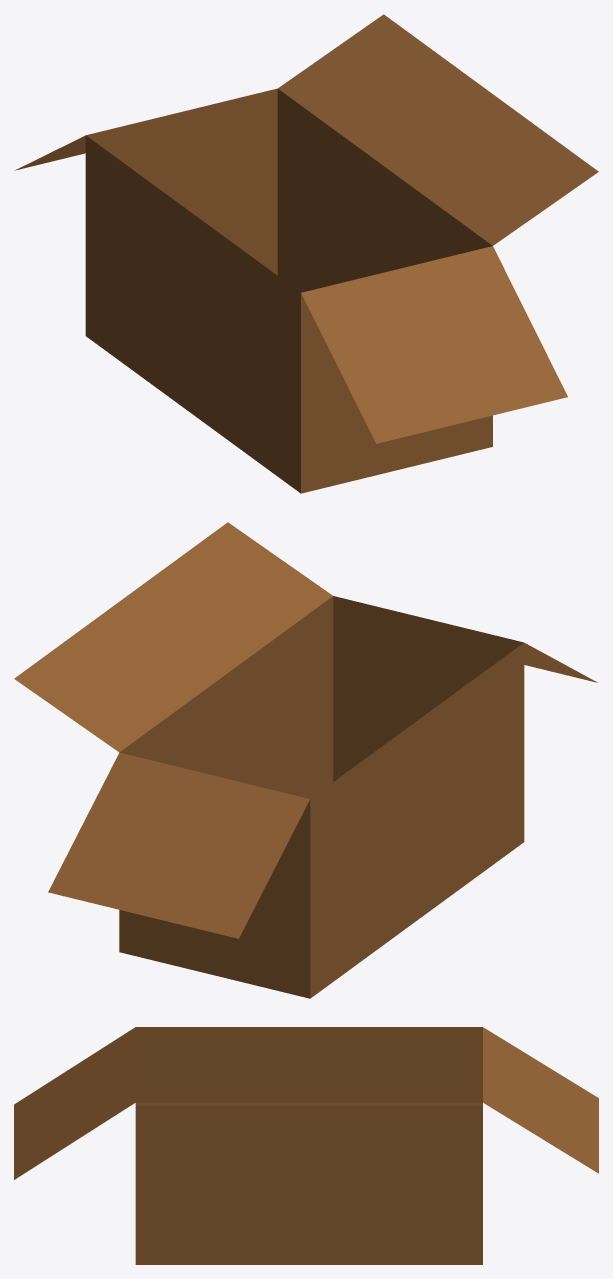
3 renders of one model, top to bottom at view 1: azimuth 30°, elevation 25°; view 2: azimuth 150°, elevation 25°; view 3: azimuth 270°, elevation 25°, orthographic. The views are drawn at different scales.
Visible parts, largest first — view 1: Cube; view 2: Cube; view 3: Cube.
Boxes of the visible parts, x1,y1,x2,y2 form: Cube: (15, 14, 598, 493); Cube: (14, 522, 597, 998); Cube: (14, 1027, 598, 1264).
Bounding box in the file's own units: 310 × 248 × 654.
